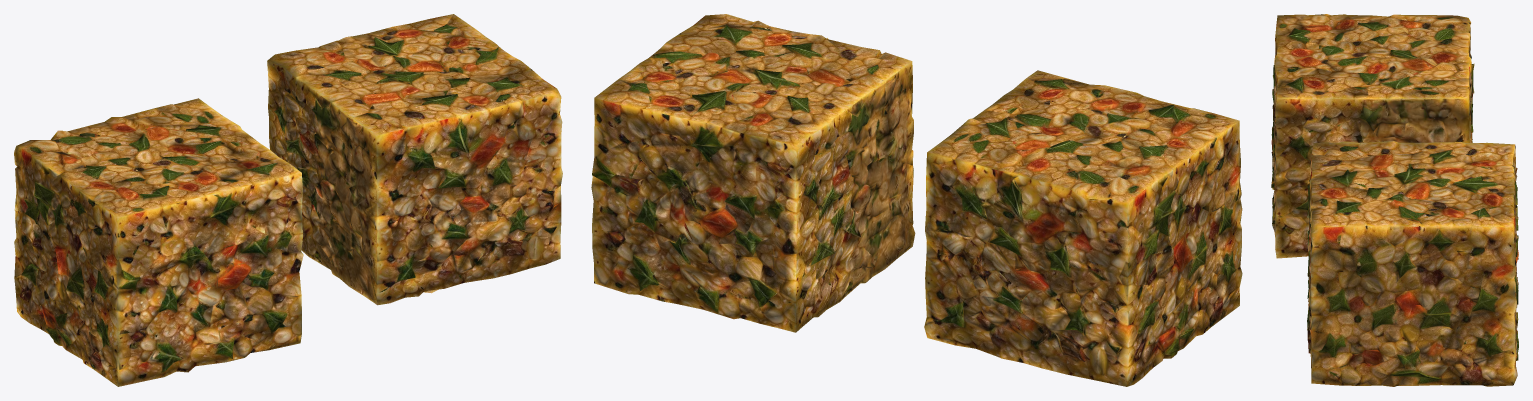
The model's file is ration_cubes.glb.
3 views of the same model, side by side, from view 1: azimuth 30°, elevation 25°; view 2: azimuth 150°, elevation 25°; view 3: azimuth 270°, elevation 25° (orthographic). The views are drawn at different scales.
Parts seen in each view (by area): view 1: ration_cubes; view 2: ration_cubes; view 3: ration_cubes.
Boxes of the visible parts, bbox=[...] form: ration_cubes: bbox=[14, 14, 562, 386]; ration_cubes: bbox=[591, 14, 1242, 386]; ration_cubes: bbox=[1271, 14, 1518, 386].
Size of the model in its own units: 1.9 by 0.6924 by 0.924.
1 material, 1 textured.
